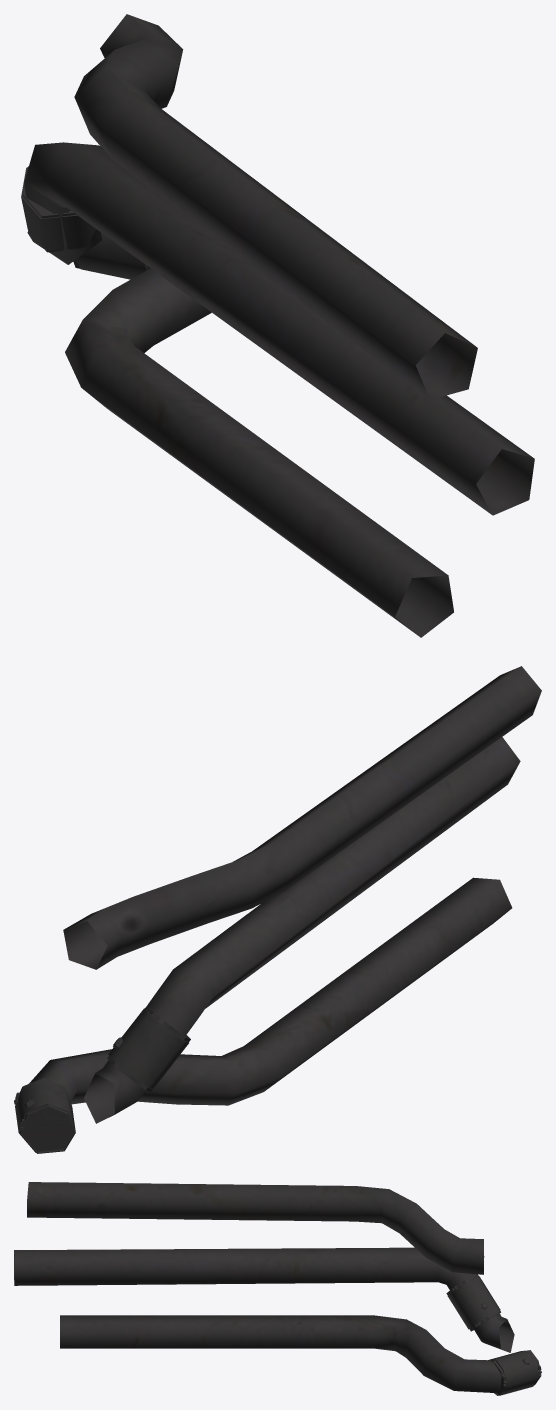
The model's file is SM_EN_1002_chuangcang10.FBX.
3 renders of one model, top to bottom at view 1: azimuth 30°, elevation 25°; view 2: azimuth 150°, elevation 25°; view 3: azimuth 270°, elevation 25°, orthographic. The views are drawn at different scales.
Parts seen in each view (by area): view 1: SM_EN_1002_chuangcang03; view 2: SM_EN_1002_chuangcang03; view 3: SM_EN_1002_chuangcang03.
Boxes of the visible parts, bbox=[...] form: SM_EN_1002_chuangcang03: bbox=[21, 14, 534, 637]; SM_EN_1002_chuangcang03: bbox=[14, 666, 541, 1153]; SM_EN_1002_chuangcang03: bbox=[14, 1182, 541, 1395].
Size of the model in its own units: 64.08 by 83.25 by 240.
